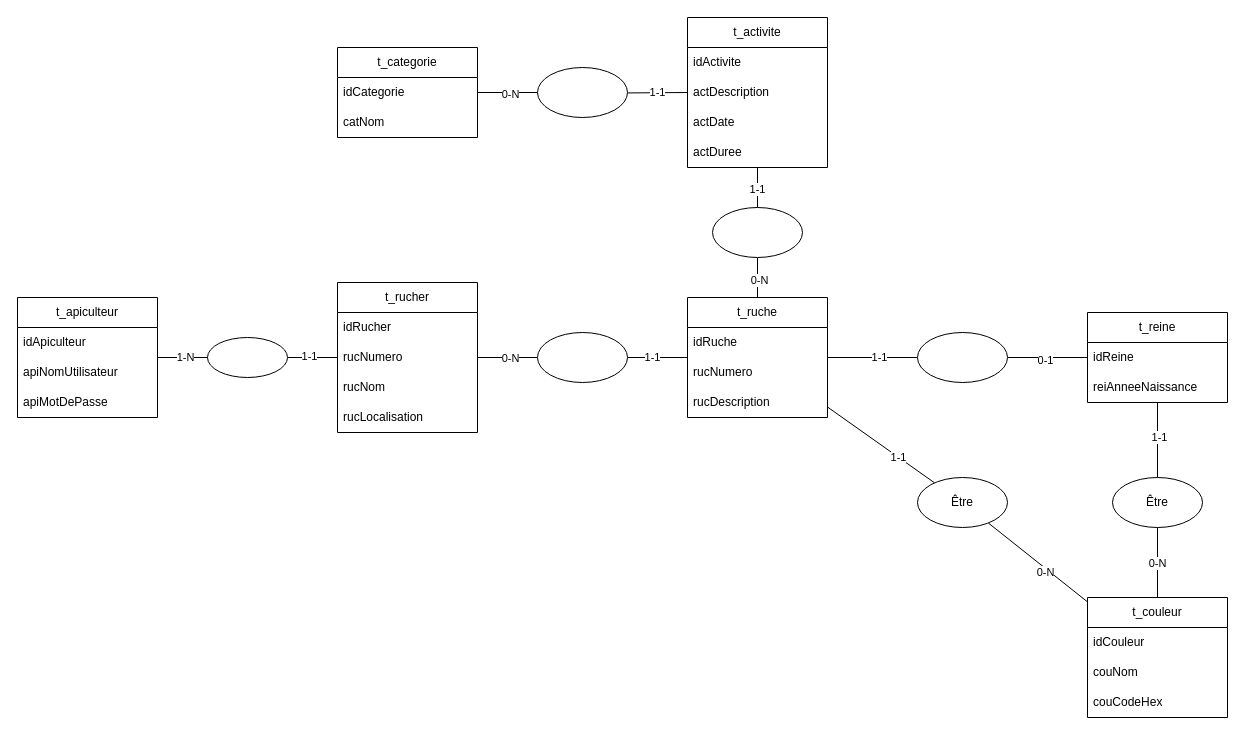
This 1245x735 diagram has some shape labels left out. The shapes that lost their labels are listed below. From the top down, each one's centre as x and y in pixels, then its label:
At [582,92]: "Posséder".
At [757,232]: "Efféctuer".
At [247,357]: "Avoir".
At [582,357]: "Contenir".
At [962,357]: "Appartenir".
